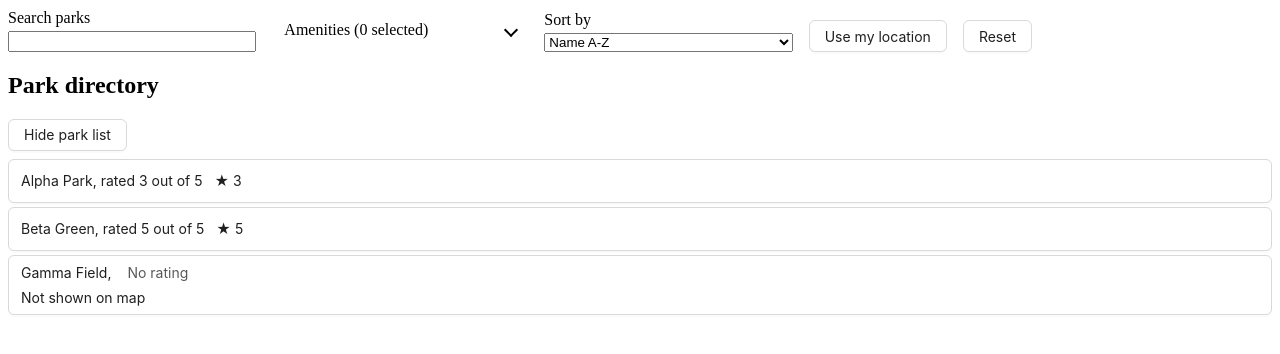
Test: SearchBar › use my location › stops using the location: back to name, announces, keeps focus
Click the button "Use my location": (878, 36) [809,20,947,52]
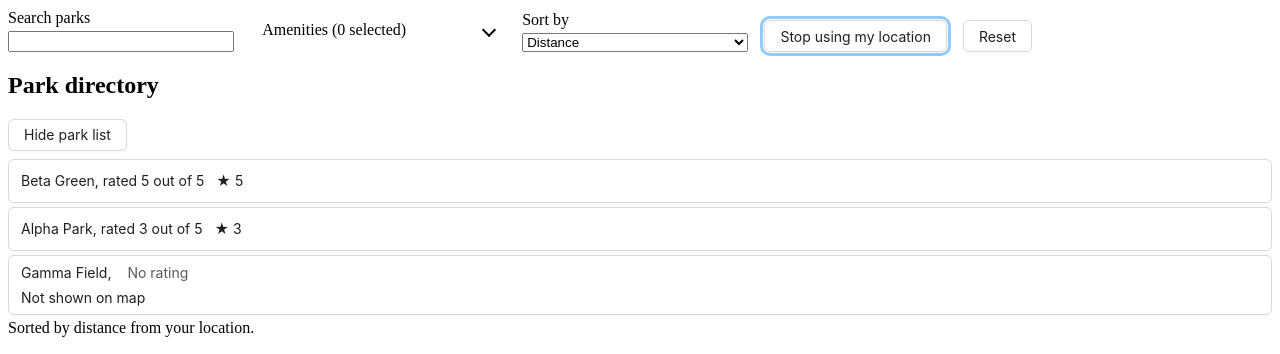
Click the button "Stop using my location": (856, 36) [764,20,947,52]
Wait 1600 ms
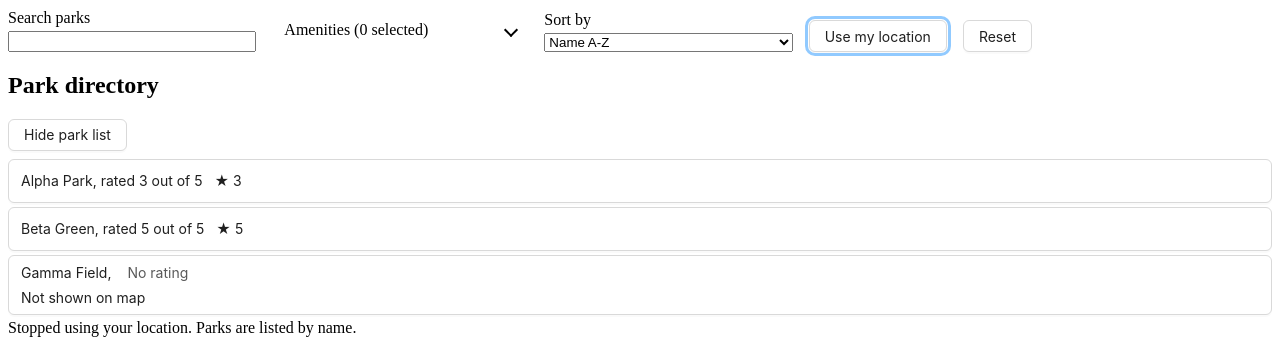
expect the dropdown labelled "Sort by" shows "Name A-Z": met, box [544,33,793,52]
expect the message "distance" is gone: met
expect the message shows "Stopped using your location": met, box [8,319,356,336]
